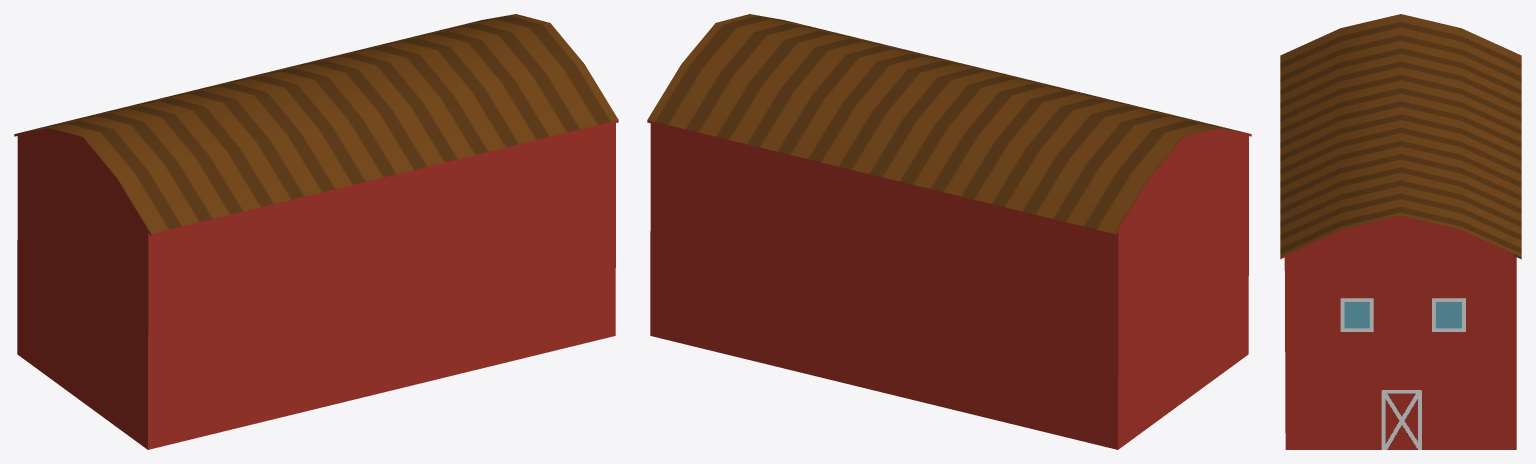
Rendered from farm_uvmapped.FBX.
The picture shows the model from 3 angles, left to right: view 1: azimuth 30°, elevation 25°; view 2: azimuth 150°, elevation 25°; view 3: azimuth 270°, elevation 25°; orthographic projection. The views are drawn at different scales.
Visible parts, largest first — view 1: Box001; view 2: Box001; view 3: Box001.
Part boxes in pixels (<box>): Box001: <box>14,14,618,449</box>; Box001: <box>647,14,1251,449</box>; Box001: <box>1280,14,1521,449</box>.
Size of the model in its own units: 19.76 by 10.7 by 10.
